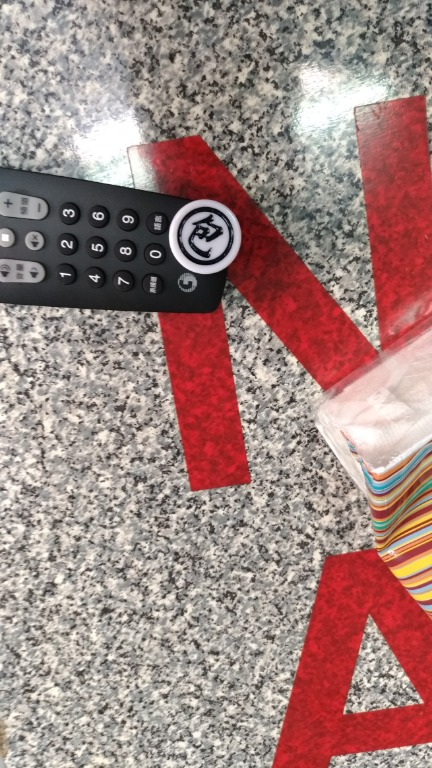b-cannon: (156, 190, 251, 277)
